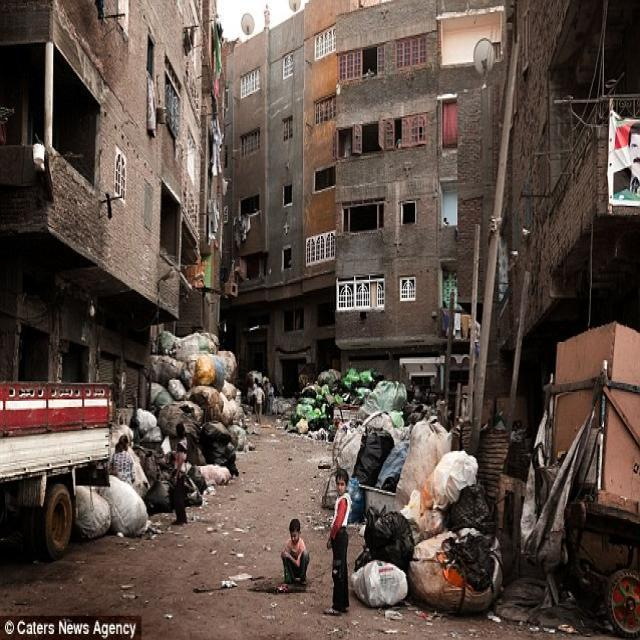Trashbag: (363, 510, 415, 564), (442, 484, 494, 531), (353, 425, 393, 486), (200, 421, 237, 472)
